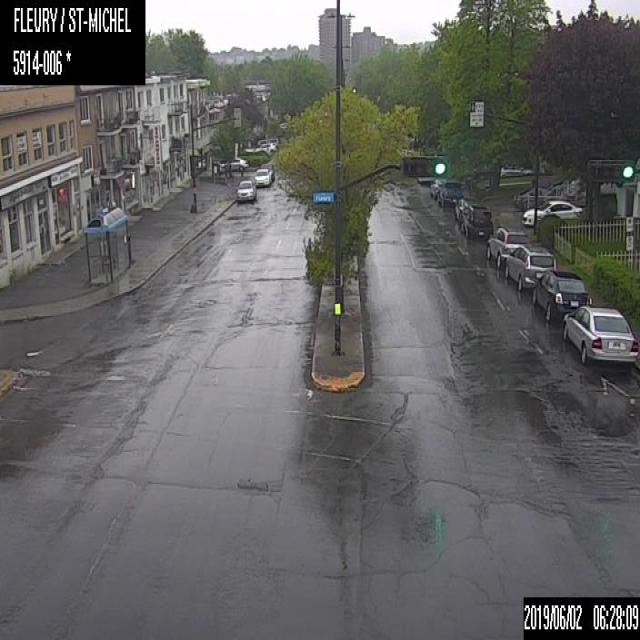vehicle: (564, 304, 639, 364), (532, 268, 592, 318), (505, 240, 555, 291), (523, 198, 583, 230), (484, 224, 524, 269), (460, 203, 492, 240), (438, 179, 463, 206), (234, 178, 256, 201), (252, 165, 273, 186), (230, 155, 247, 171)
